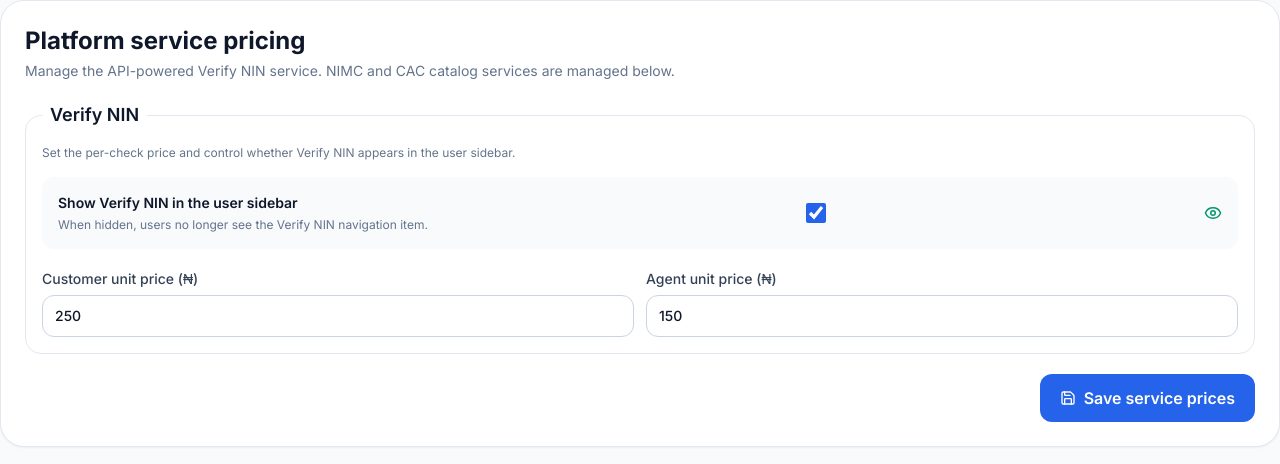
CoreServicePricing › shows only Verify NIN pricing and saves its sidebar visibility
expect the text "Verify NIN" is shown: met, box [50,104,139,125]
Click the checkbox labelled "Show Verify NIN in the user sidebar" at (816, 213), box [806,203,826,223]
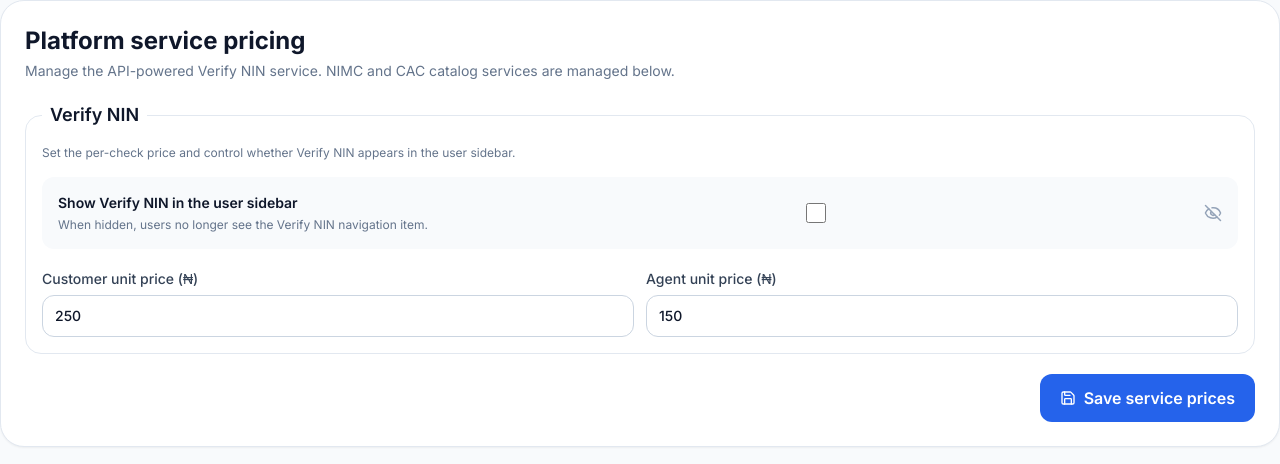
Click the button "Save service prices" at (1147, 398), box [1040,374,1255,422]
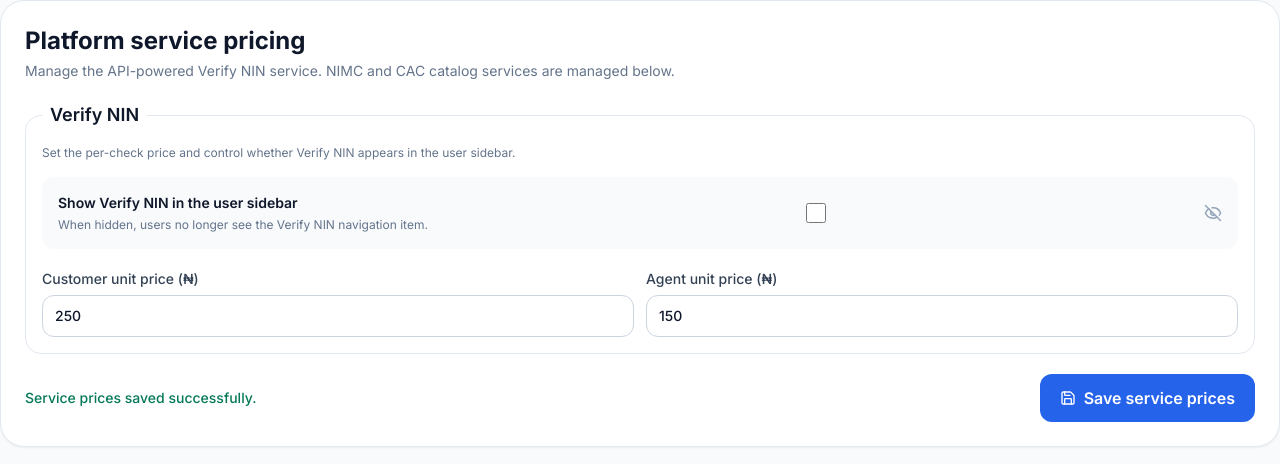
expect the message "Service prices saved successfully." is shown: met, box [25,388,256,408]
